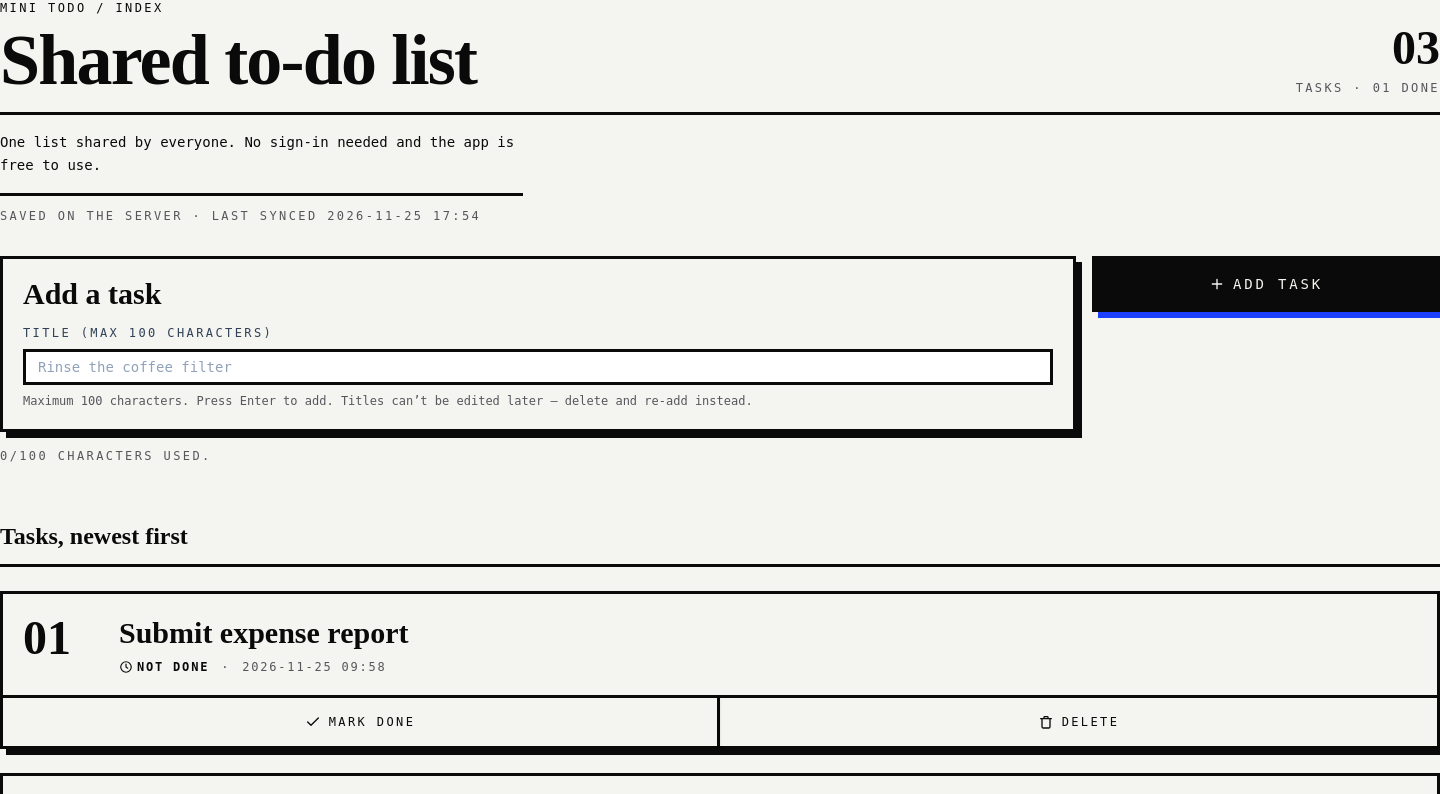
Test: Tasks — minimal task data › [AC-005] records only a title, a done status and a creation time for a new task
Type "Water the plants" into the field with test id "title-max-100-characters-input" at [538, 366], box top-left (23, 348), bottom-right (1053, 384)
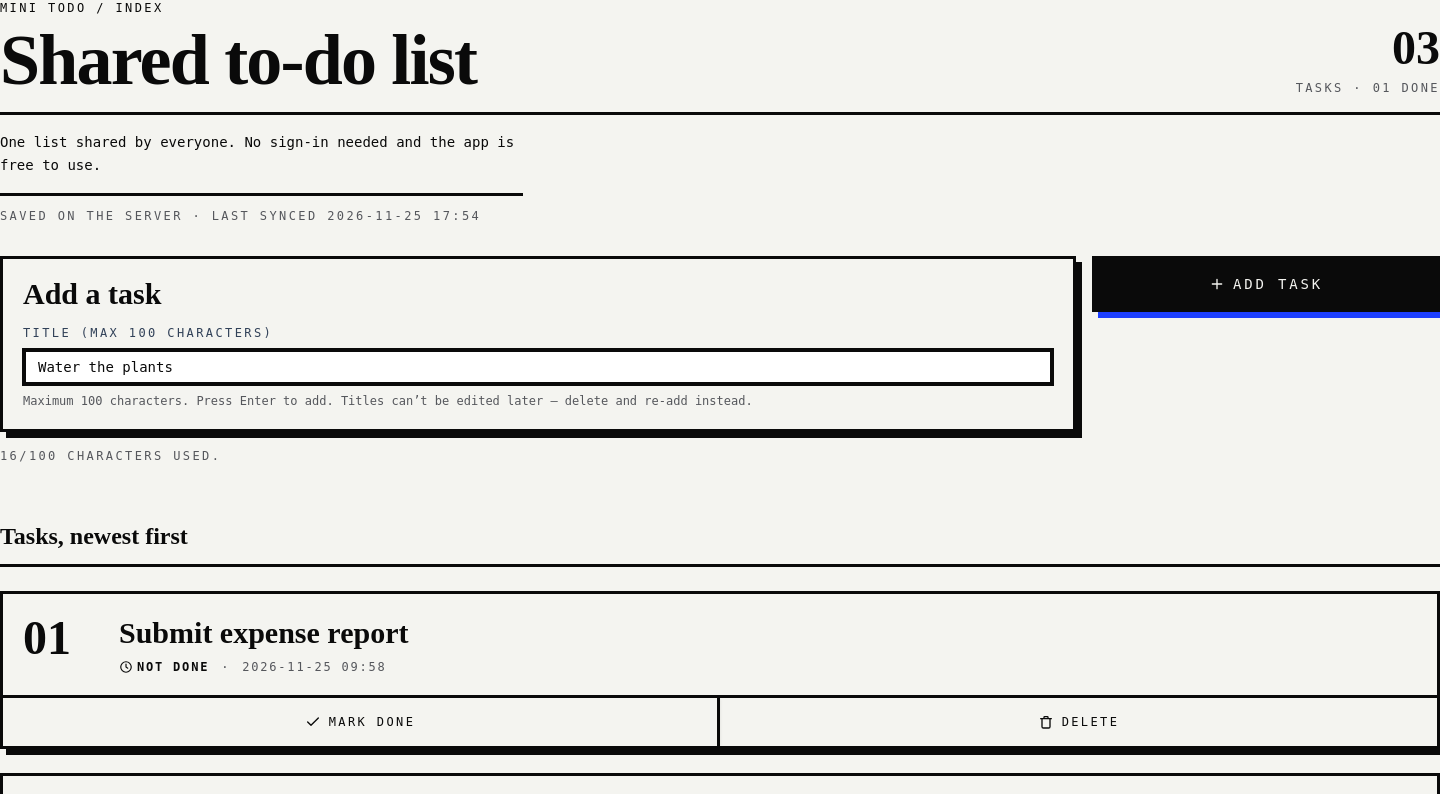
Click the button with test id "add-task-btn" at [1266, 284], box top-left (1092, 256), bottom-right (1439, 312)
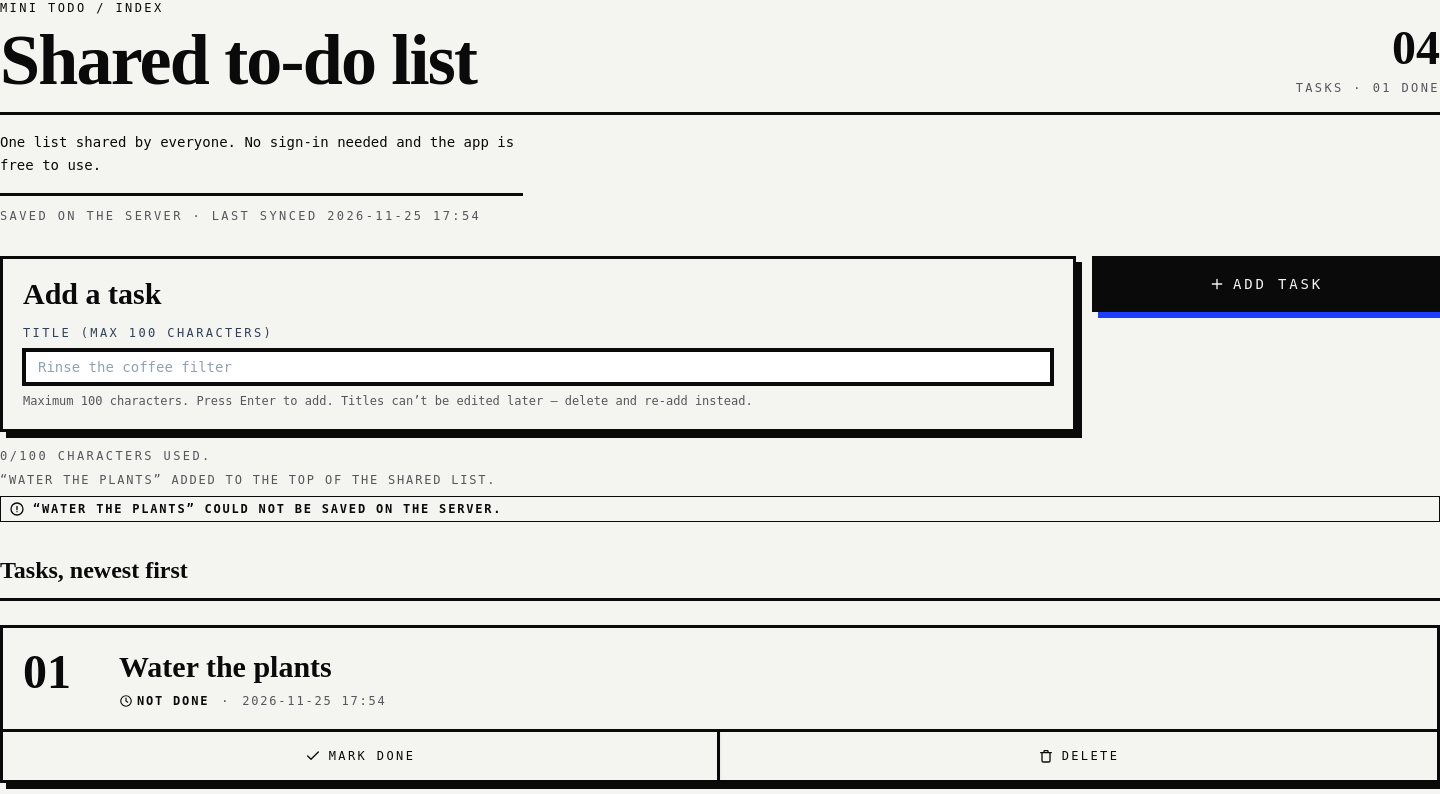
Now the heading "Water the plants" is shown, box top-left (119, 650), bottom-right (332, 682)
Now the text "Not done" is shown, box top-left (119, 693), bottom-right (209, 709)
Now the text "2026-11-25 17:54" is shown, box top-left (242, 693), bottom-right (387, 709)
